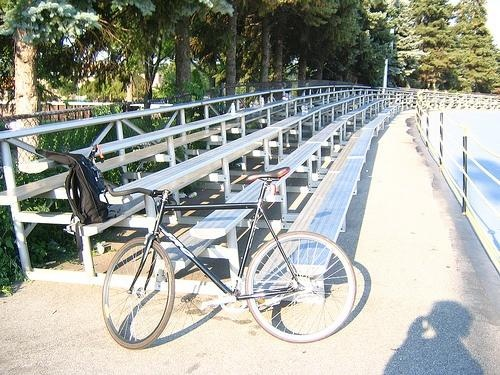bicycle: (102, 167, 357, 350)
